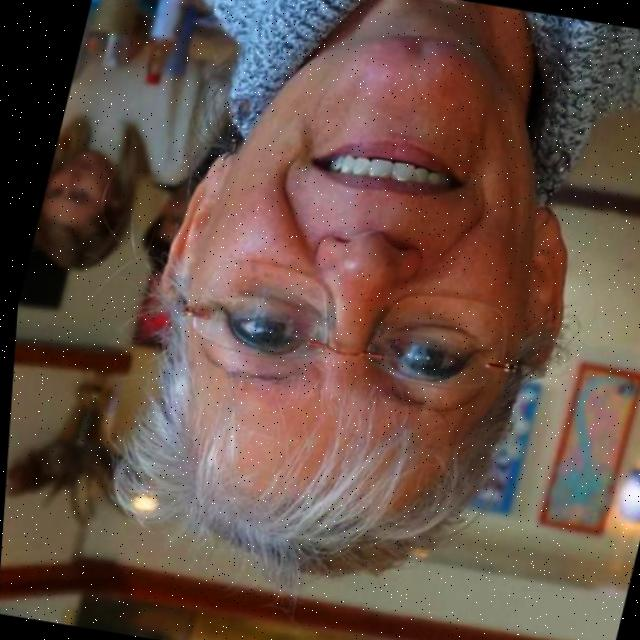puffy_eyes: (390, 314, 481, 356), (225, 285, 307, 320)
